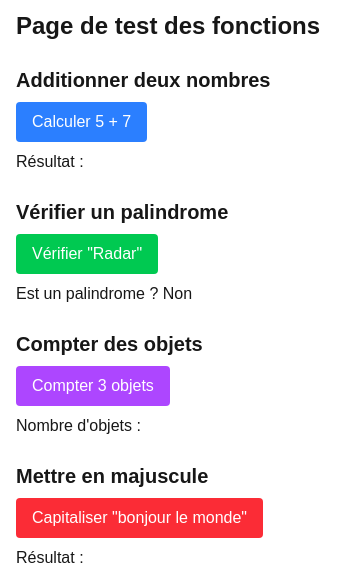
it: TestPage UI › affiche Oui quand le texte est un palindrome
The width and height of the screenshot is (337, 580).
Click the button "Vérifier \"Radar\"".
click(87, 254)  # box [16, 234, 158, 274]
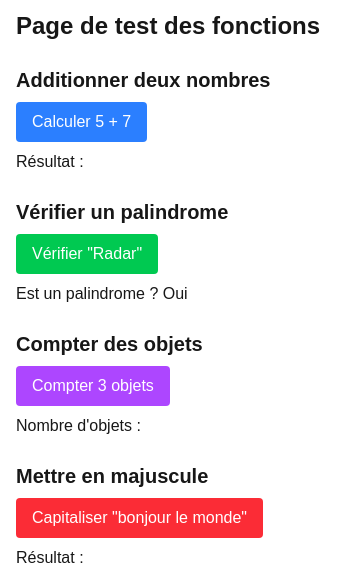
Now the text "Est un palindrome ? Oui" is shown, box [16, 285, 188, 302]
